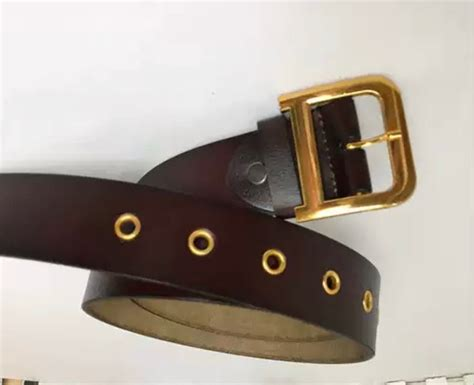cuero: (1, 98, 380, 363)
